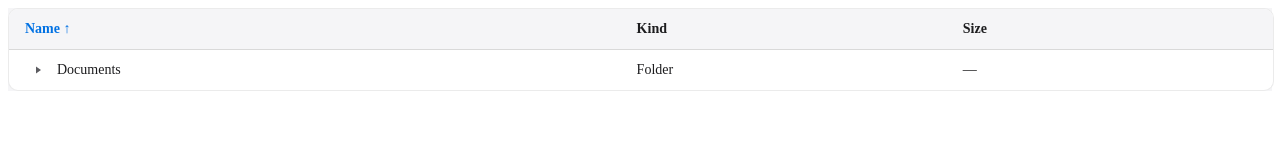
Test case: OutlineView › expands nested containers from disclosure control
Check: the text "Product Brief.pages" is not shown
Click the button named "Expand Documents".
click(41, 70)  # box [33,62,49,78]
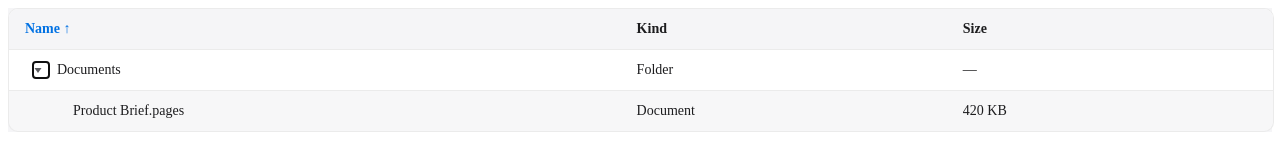
Check: the text "Product Brief.pages" is shown, box [73,103,184,119]
